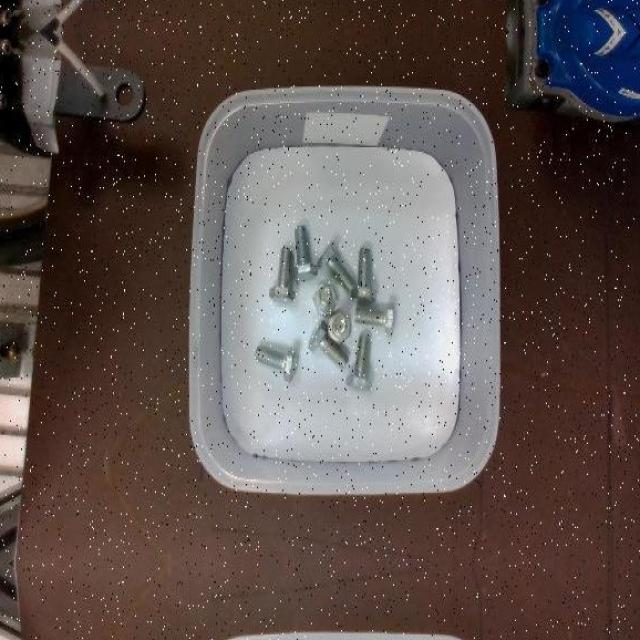screw: (316, 240, 358, 300), (308, 319, 348, 369), (255, 344, 299, 382), (290, 223, 317, 280), (344, 336, 371, 390), (268, 246, 294, 302), (353, 301, 393, 337), (352, 248, 377, 304), (312, 284, 338, 316), (328, 310, 350, 344)
